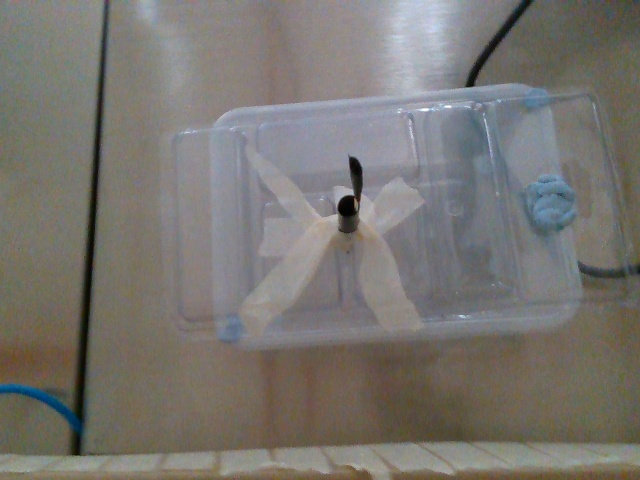test_strip: (345, 155, 363, 212)
